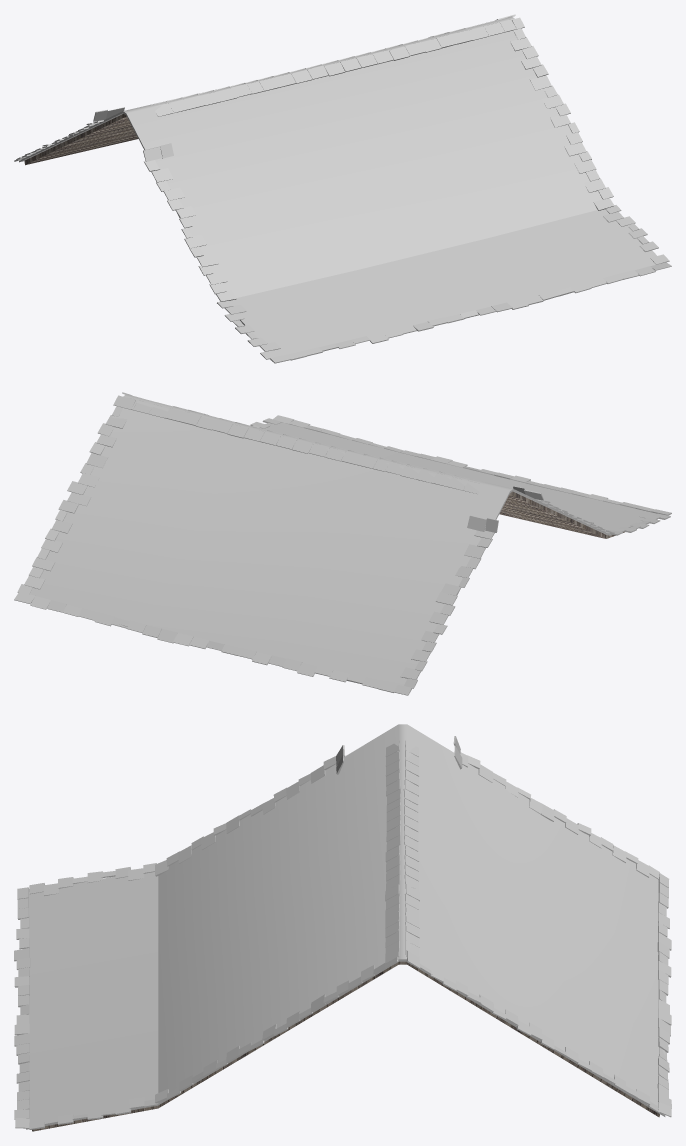
The model's file is cabinRoof_01_LOD1.FBX.
The picture shows the model from 3 angles, top to bottom: view 1: azimuth 30°, elevation 25°; view 2: azimuth 150°, elevation 25°; view 3: azimuth 270°, elevation 25°; orthographic projection. The views are drawn at different scales.
Parts seen in each view (by area): view 1: cabinRoof_01_LOD1; view 2: cabinRoof_01_LOD1; view 3: cabinRoof_01_LOD1.
Part boxes in pixels (x1,y1,x2,y2): cabinRoof_01_LOD1: [14, 14, 671, 363]; cabinRoof_01_LOD1: [14, 392, 671, 695]; cabinRoof_01_LOD1: [14, 724, 671, 1131].
Size of the model in its own units: 48.42 by 16.3 by 54.75.
